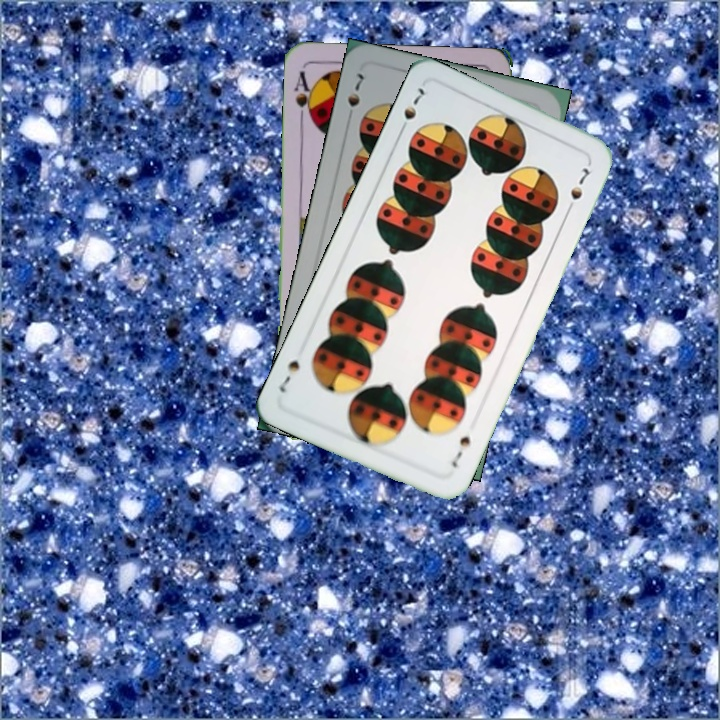S7: (395, 83, 431, 137), (343, 69, 368, 125), (447, 428, 474, 470)
SA: (290, 67, 317, 126)
